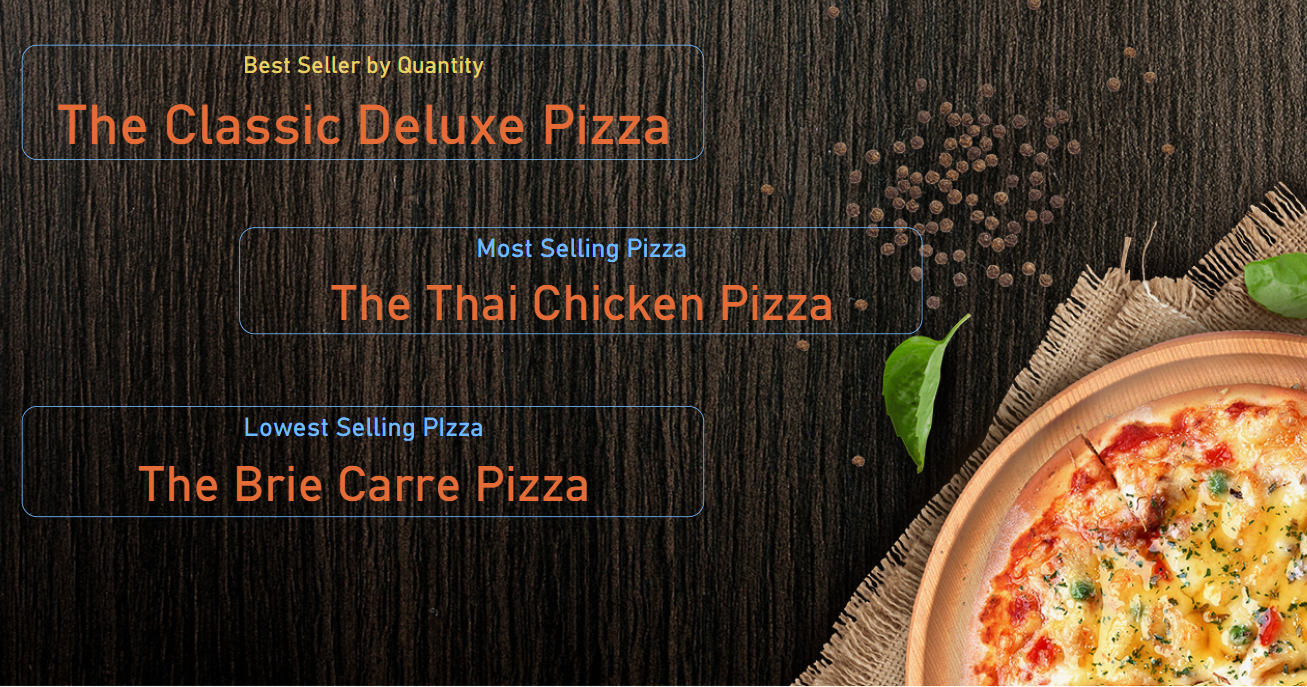

Layout of this report page (visuals, bound fields, positions):
{"tool":"powerbi","page":{"name":"KPI","canvas":[1280,720],"ordinal":1},"visuals":[{"type":"card","title":"Best Seller by Quantity","fields":{"Values":["Min(pizza_types.name)"]},"box":[37,71.3,658.1,111.1],"z":0},{"type":"card","title":"Most Selling Pizza","fields":{"Values":["Min(pizza_types.name)"]},"box":[246.8,246.8,659.5,102.8],"z":1000},{"type":"card","title":"Lowest Selling PIzza","fields":{"Values":["Min(pizza_types.name)"]},"box":[37,419.5,658.1,106.9],"z":2000}]}

Visuals, with their boxes on the page's 1280x720 design canvas (x1, y1, x2, y2). These are canvas units, not pixel positions in the 1307x687 screenshot, which may show the page scaled, cropped or inside an application window:
"Best Seller by Quantity" card: (37,71,695,182)
"Most Selling Pizza" card: (247,247,906,350)
"Lowest Selling PIzza" card: (37,420,695,526)
